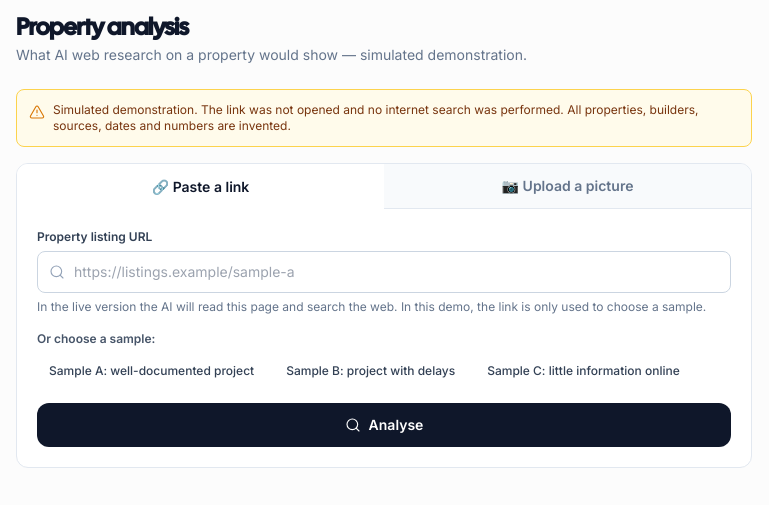
Scenario: PropertyAnalysisPage – demo mode › shows URL validation error for bad URL
The image size is (769, 505).
Click the button "Analyse".
click(384, 425)  # box [37,403,731,447]
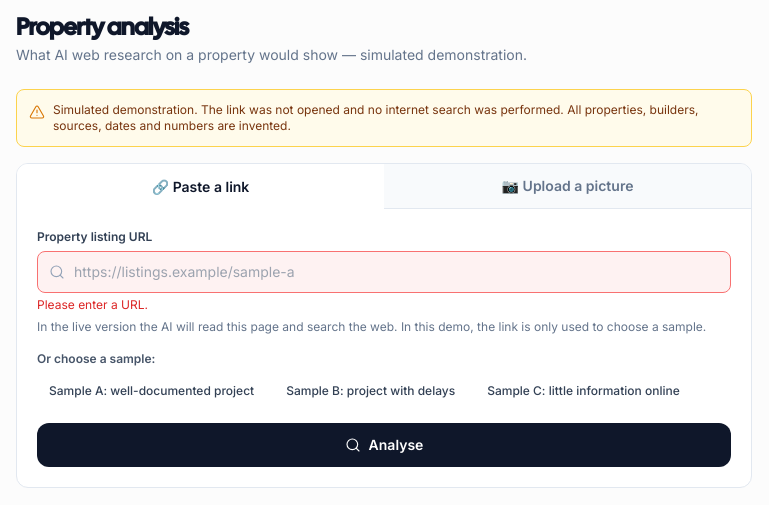
Now the message "Please enter a URL." is shown, box [37,297,148,312]
